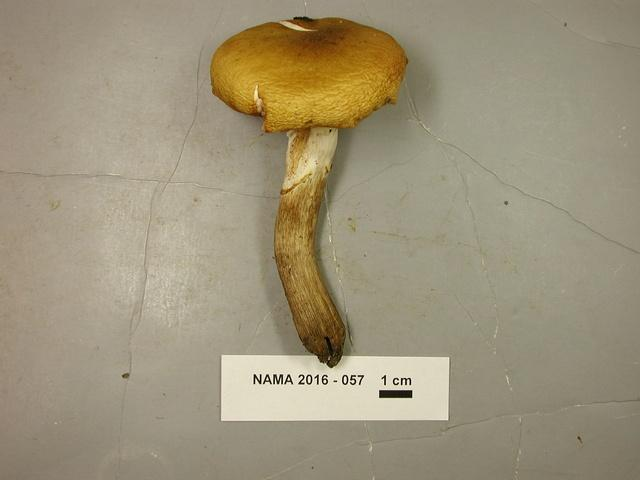edible_mushroom: (208, 14, 408, 367)
